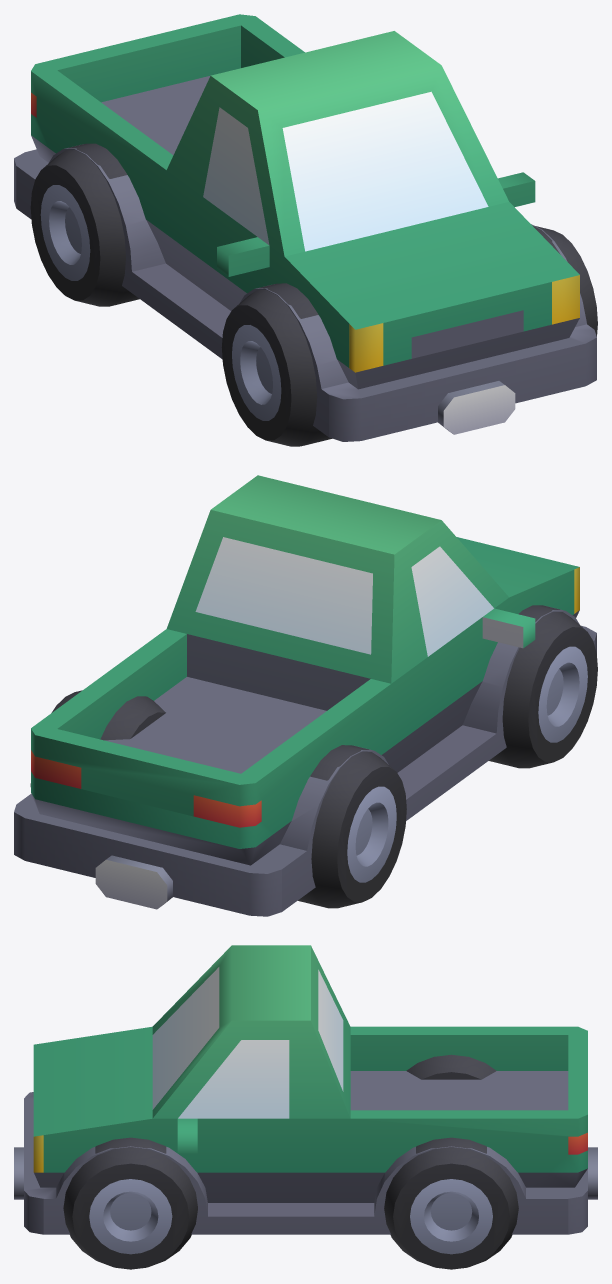
Rendered from car_pickup.glb.
3 renders of one model, top to bottom at view 1: azimuth 30°, elevation 25°; view 2: azimuth 150°, elevation 25°; view 3: azimuth 270°, elevation 25°, orthographic. The views are drawn at different scales.
Parts seen in each view (by area): view 1: body, wheel_rl_mesh, wheel_fl_mesh, wheel_fr_mesh; view 2: body, wheel_rl_mesh, wheel_fl_mesh, wheel_rr_mesh; view 3: body, wheel_fr_mesh, wheel_rr_mesh, wheel_rl_mesh.
Part boxes in pixels (left/top/right/bottom): body: left=14, top=14, right=596, bottom=441; wheel_rl_mesh: left=30, top=143, right=139, bottom=306; wheel_fl_mesh: left=221, top=283, right=332, bottom=446; wheel_fr_mesh: left=533, top=226, right=597, bottom=336; body: left=14, top=475, right=596, bottom=916; wheel_rl_mesh: left=298, top=745, right=406, bottom=908; wheel_fl_mesh: left=489, top=605, right=597, bottom=768; wheel_rr_mesh: left=30, top=690, right=165, bottom=786; body: left=14, top=945, right=597, bottom=1234; wheel_fr_mesh: left=63, top=1137, right=197, bottom=1269; wheel_rr_mesh: left=384, top=1137, right=518, bottom=1269; wheel_rl_mesh: left=406, top=1054, right=496, bottom=1079.
Bounding box in the file's own units: 1.77 × 1.53 × 3.48.
Materials: 1 (1 with a texture image).
